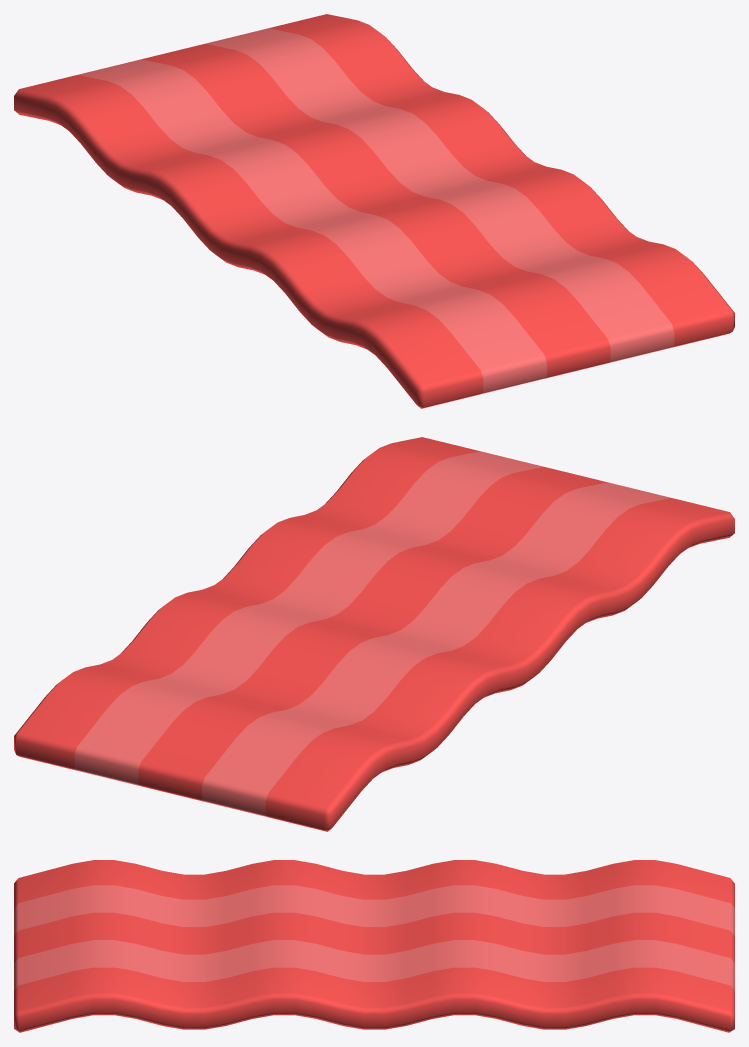
Rendered from Store_18_Bacon_1.glb.
3 renders of one model, top to bottom at view 1: azimuth 30°, elevation 25°; view 2: azimuth 150°, elevation 25°; view 3: azimuth 270°, elevation 25°, orthographic. The views are drawn at different scales.
Parts seen in each view (by area): view 1: Store_18_Bacon_1; view 2: Store_18_Bacon_1; view 3: Store_18_Bacon_1.
Part boxes in pixels (bbox=[...]): Store_18_Bacon_1: bbox=[14, 14, 734, 408]; Store_18_Bacon_1: bbox=[14, 437, 734, 831]; Store_18_Bacon_1: bbox=[14, 860, 734, 1032].
Bounding box in the file's own units: 0.0871 × 0.0119 × 0.1935.
1 material, 1 textured.
